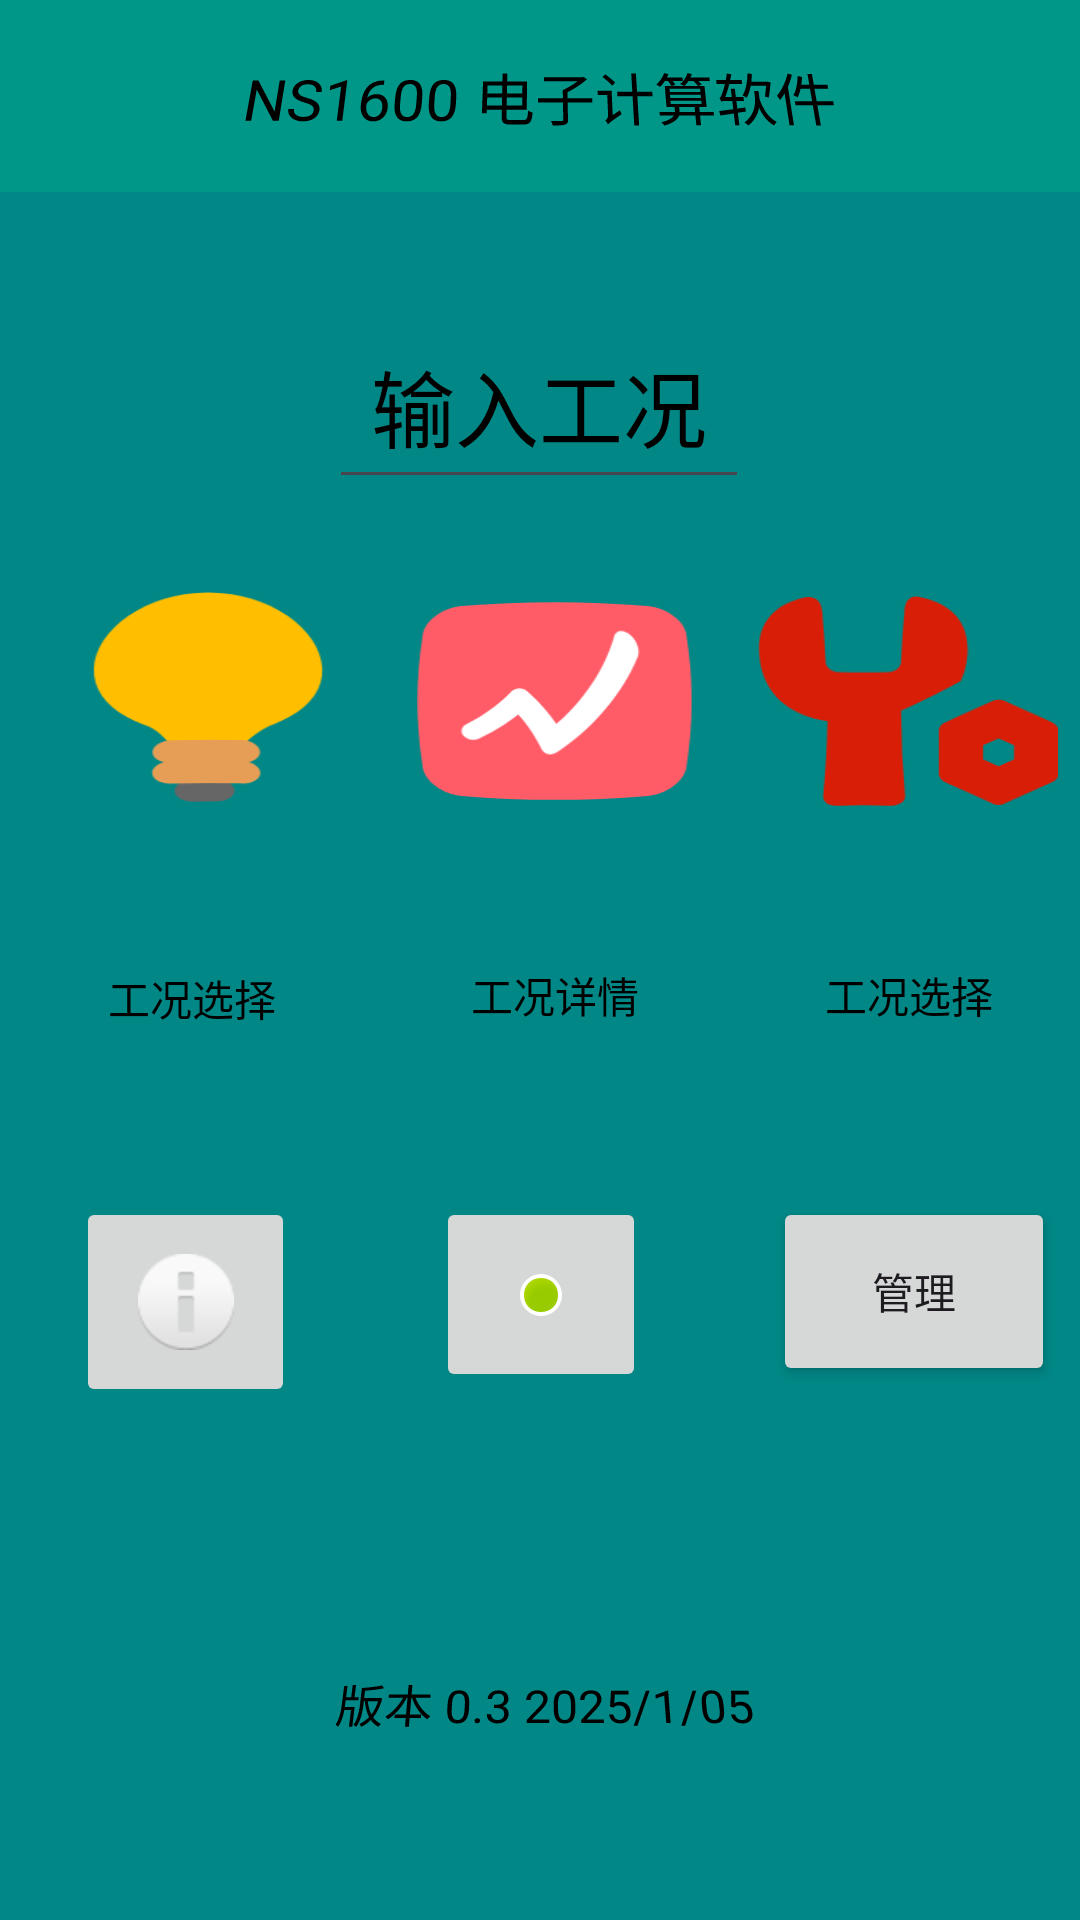

Named icons in this screenshot (1080×1920) and their bounding boxes, (x1, y1, x2, y2):
info: (88, 1215, 283, 1389)
presence online: (448, 1215, 634, 1374)
